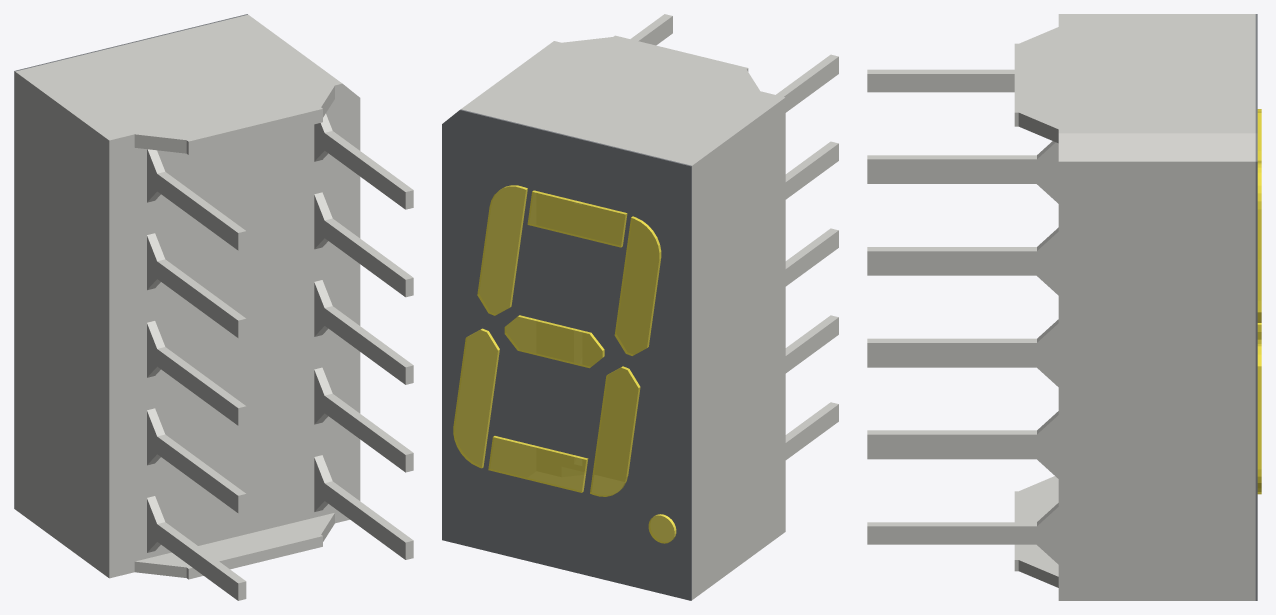
File: HDSP-7401.glb
3 renders of one model, left to right at view 1: azimuth 30°, elevation 25°; view 2: azimuth 150°, elevation 25°; view 3: azimuth 270°, elevation 25°, orthographic. The views are drawn at different scales.
Visible parts, largest first — view 1: Shape_IndexedFaceSet.010, Shape_IndexedFaceSet.100, Shape_IndexedFaceSet.143, Shape_IndexedFaceSet.016, Shape_IndexedFaceSet.015, Shape_IndexedFaceSet.017, Shape_IndexedFaceSet.090, Shape_IndexedFaceSet.118, Shape_IndexedFaceSet.141, Shape_IndexedFaceSet.121, Shape_IndexedFaceSet.123, Shape_IndexedFaceSet.128 (+18 smaller); view 2: Shape_IndexedFaceSet.164, Shape_IndexedFaceSet.100, Shape_IndexedFaceSet.143, Shape_IndexedFaceSet.217, Shape_IndexedFaceSet.215, Shape_IndexedFaceSet.214, Shape_IndexedFaceSet.218, Shape_IndexedFaceSet.212, Shape_IndexedFaceSet.216, Shape_IndexedFaceSet.213, Shape_IndexedFaceSet.123, Shape_IndexedFaceSet.118 (+4 smaller); view 3: Shape_IndexedFaceSet.097, Shape_IndexedFaceSet.143, Shape_IndexedFaceSet.098, Shape_IndexedFaceSet.107, Shape_IndexedFaceSet.001, Shape_IndexedFaceSet.111, Shape_IndexedFaceSet.131, Shape_IndexedFaceSet.135, Shape_IndexedFaceSet.125, Shape_IndexedFaceSet.017, Shape_IndexedFaceSet.145, Shape_IndexedFaceSet.139 (+15 smaller).
Boxes of the visible parts, left/top/right/bottom form: Shape_IndexedFaceSet.010: left=134, top=99, right=334, bottom=561; Shape_IndexedFaceSet.100: left=15, top=72, right=109, bottom=577; Shape_IndexedFaceSet.143: left=15, top=14, right=341, bottom=141; Shape_IndexedFaceSet.016: left=109, top=148, right=134, bottom=567; Shape_IndexedFaceSet.015: left=335, top=94, right=360, bottom=512; Shape_IndexedFaceSet.017: left=135, top=513, right=334, bottom=568; Shape_IndexedFaceSet.090: left=188, top=109, right=322, bottom=154; Shape_IndexedFaceSet.118: left=157, top=349, right=238, bottom=425; Shape_IndexedFaceSet.141: left=157, top=524, right=238, bottom=600; Shape_IndexedFaceSet.121: left=157, top=437, right=238, bottom=512; Shape_IndexedFaceSet.123: left=157, top=174, right=238, bottom=250; Shape_IndexedFaceSet.128: left=157, top=262, right=238, bottom=337; Shape_IndexedFaceSet.164: left=442, top=110, right=691, bottom=600; Shape_IndexedFaceSet.100: left=692, top=97, right=785, bottom=599; Shape_IndexedFaceSet.143: left=461, top=35, right=784, bottom=165; Shape_IndexedFaceSet.217: left=614, top=217, right=659, bottom=355; Shape_IndexedFaceSet.215: left=477, top=186, right=525, bottom=315; Shape_IndexedFaceSet.214: left=590, top=367, right=638, bottom=496; Shape_IndexedFaceSet.218: left=453, top=330, right=497, bottom=468; Shape_IndexedFaceSet.212: left=488, top=437, right=586, bottom=492; Shape_IndexedFaceSet.216: left=527, top=192, right=625, bottom=247; Shape_IndexedFaceSet.213: left=504, top=316, right=602, bottom=368; Shape_IndexedFaceSet.123: left=784, top=57, right=838, bottom=112; Shape_IndexedFaceSet.118: left=785, top=230, right=838, bottom=286; Shape_IndexedFaceSet.097: left=1058, top=161, right=1255, bottom=600; Shape_IndexedFaceSet.143: left=1014, top=14, right=1255, bottom=133; Shape_IndexedFaceSet.098: left=1058, top=133, right=1255, bottom=161; Shape_IndexedFaceSet.107: left=867, top=434, right=1036, bottom=452; Shape_IndexedFaceSet.001: left=867, top=159, right=1036, bottom=177; Shape_IndexedFaceSet.111: left=867, top=343, right=1036, bottom=361; Shape_IndexedFaceSet.131: left=867, top=251, right=1036, bottom=269; Shape_IndexedFaceSet.135: left=867, top=526, right=1036, bottom=544; Shape_IndexedFaceSet.125: left=867, top=74, right=1014, bottom=92; Shape_IndexedFaceSet.017: left=1014, top=476, right=1058, bottom=576; Shape_IndexedFaceSet.145: left=1255, top=161, right=1257, bottom=600; Shape_IndexedFaceSet.139: left=867, top=453, right=1036, bottom=459.
Bounding box in the file's own units: 3 × 5 × 3.9.
